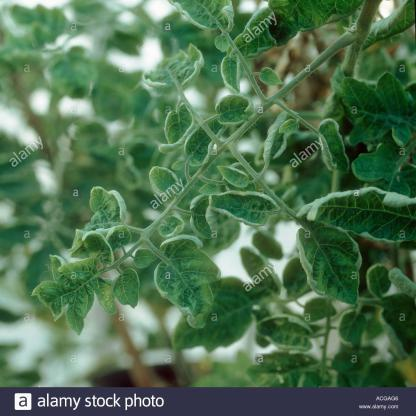Tomato leaf: (296, 166, 414, 265), (21, 242, 110, 335), (150, 233, 226, 336), (294, 217, 360, 304), (72, 182, 147, 249), (184, 104, 244, 173), (146, 34, 200, 110), (206, 189, 286, 234), (298, 112, 350, 178), (116, 162, 202, 193)
